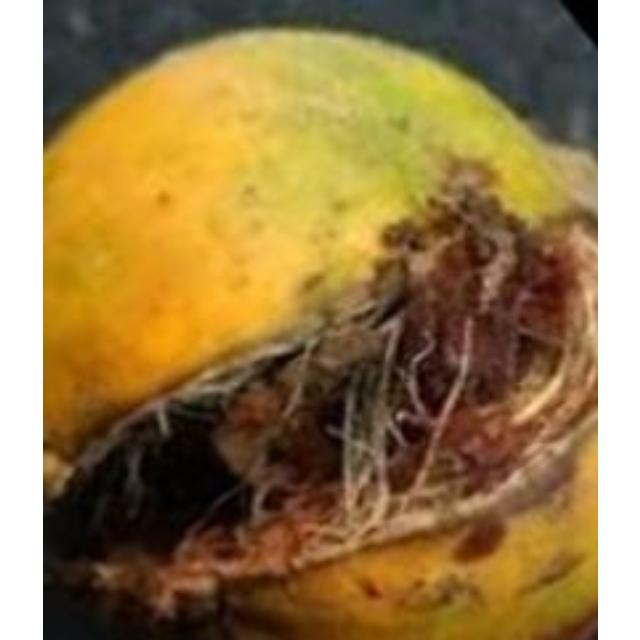damaged: (42, 29, 594, 637)
